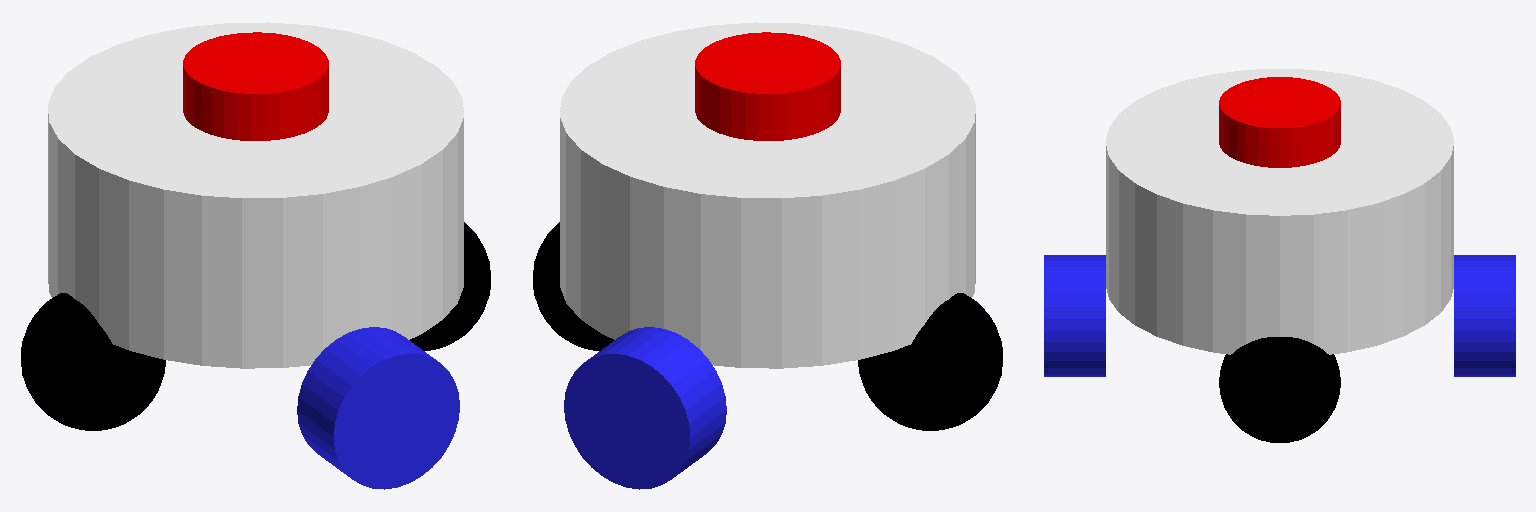
The robot description file, URDF, robot "robot":
<?xml version="1.0" ?>
<!-- =================================================================================== -->
<!-- |    This document was autogenerated by xacro from robot.urdf.xacro               | -->
<!-- |    EDITING THIS FILE BY HAND IS NOT RECOMMENDED                                 | -->
<!-- =================================================================================== -->
<robot name="robot">
  <!-- Specify some standard inertial calculations https://en.wikipedia.org/wiki/List_of_moments_of_inertia -->
  <!-- These make use of xacro's mathematical functionality -->
  <material name="white">
    <color rgba="1 1 1 1"/>
  </material>
  <material name="orange">
    <color rgba="1 0.3 0.1 1"/>
  </material>
  <material name="blue">
    <color rgba="0.2 0.2 1 1"/>
  </material>
  <material name="black">
    <color rgba="0 0 0 1"/>
  </material>
  <material name="red">
    <color rgba="1 0 0 1"/>
  </material>
  <!-- BASE LINK -->
  <link name="base_link">

    </link>
  <joint name="base_footprint_joint" type="fixed">
    <parent link="base_link"/>
    <child link="base_footprint"/>
    <origin rpy="0 0 0" xyx="0 0 0"/>
  </joint>
  <link name="base_footprint">
    </link>
  <!-- CHASSIS LINK -->
  <joint name="chassis_joint" type="fixed">
    <parent link="base_link"/>
    <child link="chassis"/>
    <origin xyz="0 0 0"/>
  </joint>
  <link name="chassis">
    <visual>
      <origin xyz="0 0 0.065"/>
      <!-- half the height (90mm) is 45mm, plus 20mm above ground -->
      <geometry>
        <cylinder length="0.09" radius="0.1"/>
      </geometry>
      <material name="white"/>
    </visual>
    <collision>
      <origin xyz="0 0 0.065"/>
      <geometry>
        <cylinder length="0.09" radius="0.1"/>
      </geometry>
    </collision>
    <inertial>
      <origin rpy="0 0 0" xyz="0 0 0.065"/>
      <mass value="0.5"/>
      <inertia ixx="0.0015875000000000004" ixy="0.0" ixz="0.0" iyy="0.0015875000000000004" iyz="0.0" izz="0.0025000000000000005"/>
    </inertial>
  </link>
  <!-- <link name="chassis"> -->
  <!--     <visual> -->
  <!--         <origin xyz="0.15 0 0.075"/> -->
  <!--         <geometry> -->
  <!--             <box size="0.3 0.3 0.15"/> -->
  <!--         </geometry> -->
  <!--         <material name="white"/> -->
  <!--     </visual> -->
  <!--     <collision> -->
  <!--         <origin xyz="0.15 0 0.075"/> -->
  <!--         <geometry> -->
  <!--             <box size="0.3 0.3 0.15"/> -->
  <!--         </geometry> -->
  <!--     </collision> -->
  <!--     <xacro:inertial_box mass="0.5" x="0.3" y="0.3" z="0.15"> -->
  <!--         <origin xyz="0.15 0 0.075" rpy="0 0 0"/> -->
  <!--     </xacro:inertial_box> -->
  <!-- </link> -->
  <!---->
  <gazebo reference="chassis">
    <material>Gazebo/White</material>
  </gazebo>
  <!-- LEFT WHEEL LINK -->
  <joint name="left_wheel_joint" type="continuous">
    <parent link="base_link"/>
    <child link="left_wheel"/>
    <origin rpy="-1.5707963267948966 0 0" xyz="0 0.1175 0"/>
    <axis xyz="0 0 1"/>
  </joint>
  <link name="left_wheel">
    <visual>
      <geometry>
        <cylinder length="0.035" radius="0.035"/>
      </geometry>
      <material name="blue"/>
    </visual>
    <collision>
      <geometry>
        <sphere radius="0.035"/>
      </geometry>
    </collision>
    <inertial>
      <origin rpy="0 0 0" xyz="0 0 0"/>
      <mass value="0.1"/>
      <inertia ixx="4.083333333333334e-05" ixy="0.0" ixz="0.0" iyy="4.083333333333334e-05" iyz="0.0" izz="6.125000000000001e-05"/>
    </inertial>
  </link>
  <gazebo reference="left_wheel">
    <material>Gazebo/Blue</material>
  </gazebo>
  <!-- RIGHT WHEEL LINK -->
  <joint name="right_wheel_joint" type="continuous">
    <parent link="base_link"/>
    <child link="right_wheel"/>
    <origin rpy="1.5707963267948966 0 0" xyz="0 -0.1175 0"/>
    <axis xyz="0 0 -1"/>
  </joint>
  <link name="right_wheel">
    <visual>
      <geometry>
        <cylinder length="0.035" radius="0.035"/>
      </geometry>
      <material name="blue"/>
    </visual>
    <collision>
      <geometry>
        <sphere radius="0.035"/>
      </geometry>
    </collision>
    <inertial>
      <origin rpy="0 0 0" xyz="0 0 0"/>
      <mass value="0.1"/>
      <inertia ixx="4.083333333333334e-05" ixy="0.0" ixz="0.0" iyy="4.083333333333334e-05" iyz="0.0" izz="6.125000000000001e-05"/>
    </inertial>
  </link>
  <gazebo reference="right_wheel">
    <material>Gazebo/Blue</material>
  </gazebo>
  <!-- CASTER WHEEL LINK -->
  <joint name="caster_wheel_joint" type="fixed">
    <parent link="chassis"/>
    <child link="caster_wheel"/>
    <origin xyz="0.09 0 0"/>
  </joint>
  <link name="caster_wheel">
    <visual>
      <geometry>
        <sphere radius="0.035"/>
      </geometry>
      <material name="black"/>
    </visual>
    <collision>
      <geometry>
        <sphere radius="0.035"/>
      </geometry>
    </collision>
    <inertial>
      <origin rpy="0 0 0" xyz="0 0 0"/>
      <mass value="0.1"/>
      <inertia ixx="4.900000000000002e-05" ixy="0.0" ixz="0.0" iyy="4.900000000000002e-05" iyz="0.0" izz="4.900000000000002e-05"/>
    </inertial>
  </link>
  <joint name="caster_wheel_joint2" type="fixed">
    <parent link="chassis"/>
    <child link="caster_wheel2"/>
    <origin xyz="-0.09 0 0"/>
  </joint>
  <link name="caster_wheel2">
    <visual>
      <geometry>
        <sphere radius="0.035"/>
      </geometry>
      <material name="black"/>
    </visual>
    <collision>
      <geometry>
        <sphere radius="0.035"/>
      </geometry>
    </collision>
    <inertial>
      <origin rpy="0 0 0" xyz="0 0 0"/>
      <mass value="0.1"/>
      <inertia ixx="4.900000000000002e-05" ixy="0.0" ixz="0.0" iyy="4.900000000000002e-05" iyz="0.0" izz="4.900000000000002e-05"/>
    </inertial>
  </link>
  <gazebo reference="caster_wheel">
    <material>Gazebo/Black</material>
    <mu1 value="0.001"/>
    <mu2 value="0.001"/>
  </gazebo>
  <gazebo reference="caster_wheel2">
    <material>Gazebo/Black</material>
    <mu1 value="0.001"/>
    <mu2 value="0.001"/>
  </gazebo>
  <ros2_control name="DiffBotSystem" type="system">
    <hardware>
      <plugin>gz_ros2_control/GazeboSystem</plugin>
    </hardware>
    <joint name="left_wheel_joint">
      <command_interface name="velocity">
        <param name="min">-2</param>
        <param name="max">2</param>
      </command_interface>
      <state_interface name="velocity"/>
      <state_interface name="position"/>
    </joint>
    <joint name="right_wheel_joint">
      <command_interface name="velocity">
        <param name="min">-2</param>
        <param name="max">2</param>
      </command_interface>
      <state_interface name="velocity"/>
      <state_interface name="position"/>
    </joint>
  </ros2_control>
  <gazebo>
    <plugin filename="libgz_ros2_control.so" name="gz_ros2_control::GazeboSimROS2ControlPlugin">
      <robot_param>robot_description</robot_param>
      <robot_param_node>robot_state_publisher</robot_param_node>
      <parameters>[local-path]/ros2_ws/install/diffbot/share/diffbot/config/ros2_controller.yaml</parameters>
      <parameters>[local-path]/ros2_ws/install/diffbot/share/diffbot/config/gaz_ros2_ctl_use_sim.yaml</parameters>
    </plugin>
  </gazebo>
  <joint name="laser_joint" type="fixed">
    <parent link="chassis"/>
    <child link="laser_frame"/>
    <origin rpy="0 0 0" xyz="0 0 0.110"/>
  </joint>
  <link name="laser_frame">
    <visual>
      <geometry>
        <cylinder length="0.05" radius="0.035"/>
      </geometry>
      <material name="red"/>
    </visual>
    <collision>
      <geometry>
        <cylinder length="0.05" radius="0.035"/>
      </geometry>
    </collision>
    <inertial>
      <origin rpy="0 0 0" xyz="0 0 0"/>
      <mass value="0.1"/>
      <inertia ixx="5.145833333333335e-05" ixy="0.0" ixz="0.0" iyy="5.145833333333335e-05" iyz="0.0" izz="6.125000000000001e-05"/>
    </inertial>
  </link>
  <gazebo reference="laser_frame">
    <material>Gazebo/Red</material>
    <sensor name="laser" type="gpu_lidar">
      <always_on>true</always_on>
      <pose> 0 0 0 0 0 0 </pose>
      <visualize> true </visualize>
      <update_rate>10</update_rate>
      <lidar>
        <scan>
          <horizontal>
            <samples>360</samples>
            <resolution>1</resolution>
            <min_angle>-3.14</min_angle>
            <max_angle>3.14</max_angle>
          </horizontal>
        </scan>
        <range>
          <min>0.3</min>
          <max>12</max>
          <resolution>0.01</resolution>
        </range>
      </lidar>
      <plugin filename="libgazebo_ros_ray_sensor.so" name="laser_controller">
        <ros>
          <namespace>/</namespace>
          <remapping>laser_controller/out:=scan</remapping>
        </ros>
        <output_type>sensor_msgs/LaserScan</output_type>
        <frame_name>laser_frame</frame_name>
      </plugin>
    </sensor>
  </gazebo>
  <material name="whites">
    <color rgba="1 1 1 1"/>
  </material>
  <!-- IMU Sensor -->
  <link name="imu_link">
    <inertial>
      <mass value="0.01"/>
      <origin rpy="0 0 0" xyz="0 0 0"/>
      <inertia ixx="1e-5" ixy="0" ixz="0" iyy="1e-5" iyz="0" izz="1e-5"/>
    </inertial>
    <visual>
      <origin xyz="0 0 0.045"/>
      <geometry>
        <box size="0.02 0.02 0.02"/>
      </geometry>
      <material name="whites"/>
    </visual>
    <collision>
      <origin xyz="0 0 0.045"/>
      <geometry>
        <box size="0.02 0.02 0.02"/>
      </geometry>
    </collision>
  </link>
  <joint name="imu_joint" type="fixed">
    <parent link="base_link"/>
    <child link="imu_link"/>
    <origin rpy="0 0 0" xyz="0 0 0.045"/>
  </joint>
  <gazebo reference="imu_link">
    <gravity>true</gravity>
    <sensor name="imu_sensor" type="imu">
      <always_on>true</always_on>
      <update_rate>100</update_rate>
      <visualize>true</visualize>
      <topic>__default_topic__</topic>
      <plugin filename="libgazebo_ros_imu_sensor.so" name="imu">
        <ros>
          <namespace>/</namespace>
          <remapping>imu/out:=imu</remapping>
        </ros>
        <topicName>/imu</topicName>
        <bodyName>imu_link</bodyName>
        <updateRateHZ>10.0</updateRateHZ>
        <gaussianNoise>0.0</gaussianNoise>
        <xyzOffset>0 0 0</xyzOffset>
        <rpyOffset>0 0 0</rpyOffset>
        <frameName>imu_link</frameName>
        <initialOrientationAsReference>false</initialOrientationAsReference>
      </plugin>
      <pose>0 0 0 0 0 0</pose>
    </sensor>
  </gazebo>
</robot>

--- Render facts (derived) ---
Views: 3 orthographic renders of the robot side by side, from view 1: azimuth 30°, elevation 25°; view 2: azimuth 150°, elevation 25°; view 3: azimuth 270°, elevation 25°.
Model robot with 9 links and 8 joints (2 continuous, 6 fixed), rooted at base_link, posed every joint at zero.
Visible links, largest first — view 1: chassis, right_wheel, laser_frame, caster_wheel2, caster_wheel; view 2: chassis, left_wheel, laser_frame, caster_wheel2, caster_wheel; view 3: chassis, caster_wheel, laser_frame, left_wheel, right_wheel.
Boxes of the visible links, box(x1,y1,x2,y2) form: chassis: box(48, 22, 463, 368); right_wheel: box(297, 327, 459, 489); laser_frame: box(183, 32, 328, 140); caster_wheel2: box(21, 293, 165, 430); caster_wheel: box(410, 222, 490, 350); chassis: box(560, 22, 975, 368); left_wheel: box(564, 327, 726, 489); laser_frame: box(695, 32, 840, 140); caster_wheel2: box(858, 293, 1002, 430); caster_wheel: box(533, 222, 613, 350); chassis: box(1106, 69, 1453, 354); caster_wheel: box(1219, 337, 1340, 442); laser_frame: box(1219, 77, 1340, 167); left_wheel: box(1454, 255, 1515, 376); right_wheel: box(1044, 255, 1105, 376).
Size in the robot's own frame: 0.25 by 0.27 by 0.17 metres.
Geometry: primitives only (box / cylinder / sphere), no mesh files.